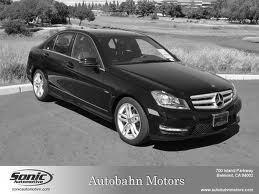car: (23, 25, 245, 150)
